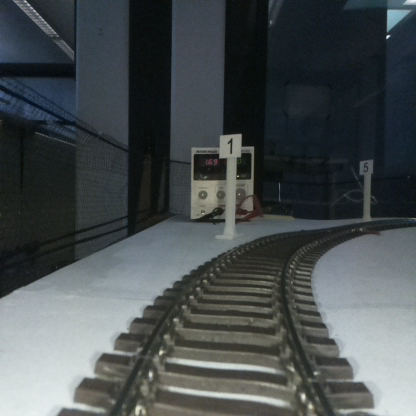white-info-1: (219, 133, 241, 238)
white-info-5: (359, 158, 372, 218)
